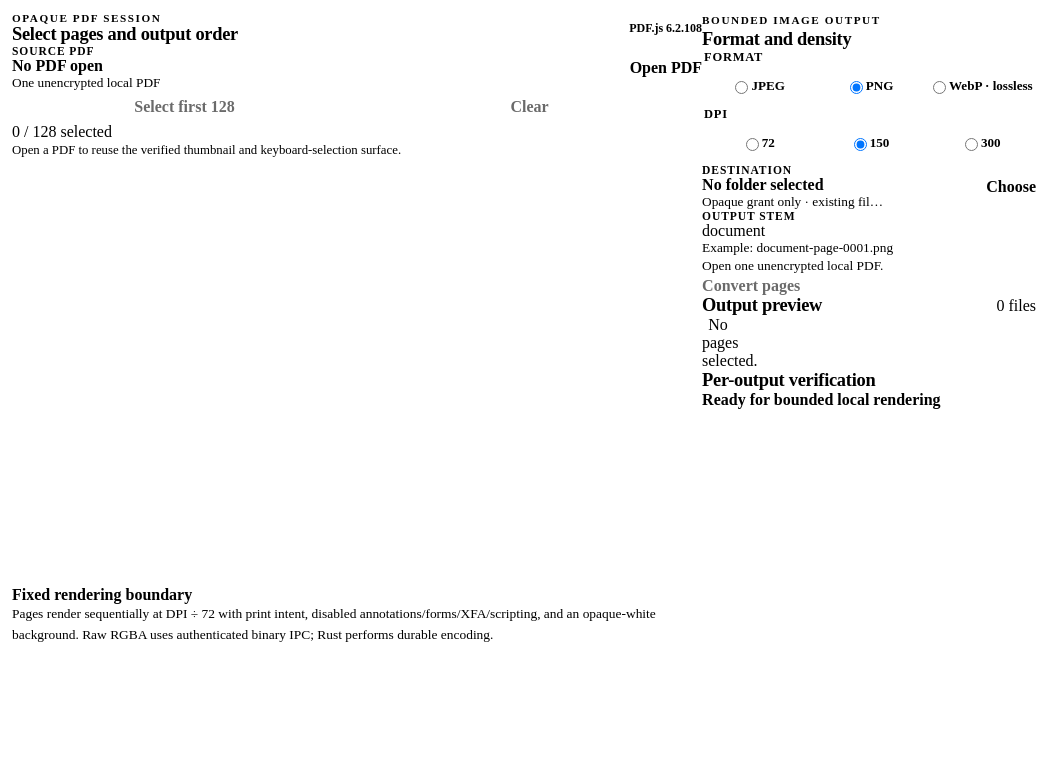
it: PDF-to-images operation lifecycle › preserves ordinary failure handling without issuing cancellation
Click the button "Open PDF": (666, 68) [630,59,702,77]
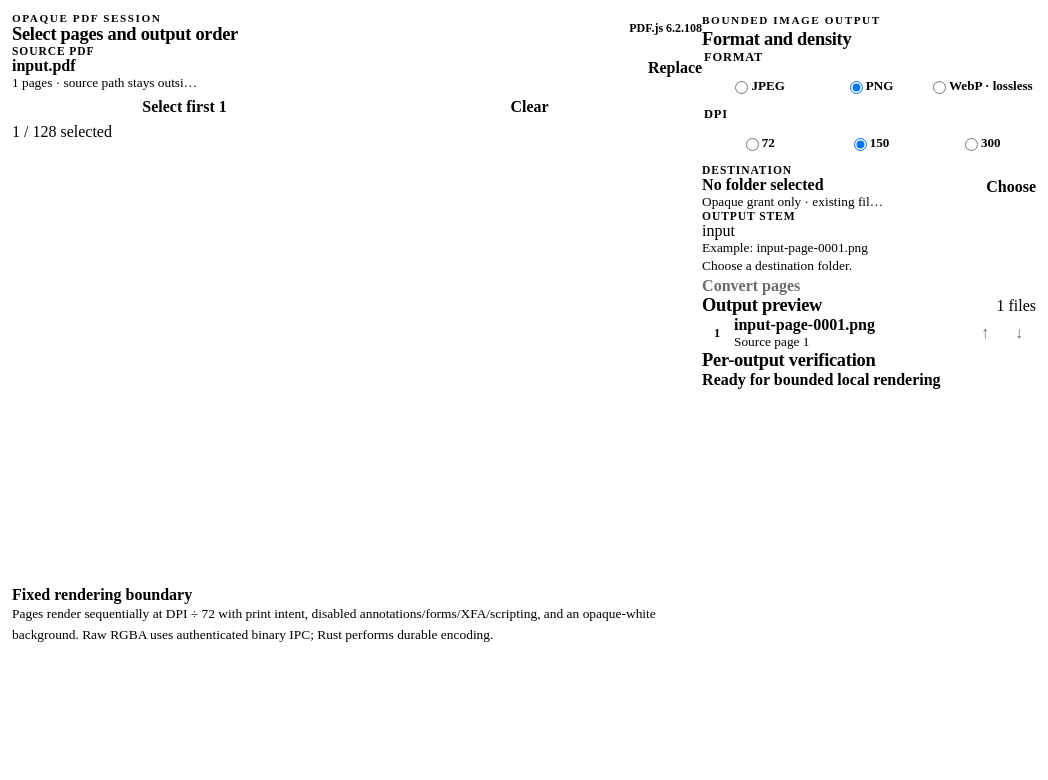
expect the text "input.pdf" is shown: met, box [12,57,76,74]
Click the button "Choose": (1011, 187) [986,178,1036,196]
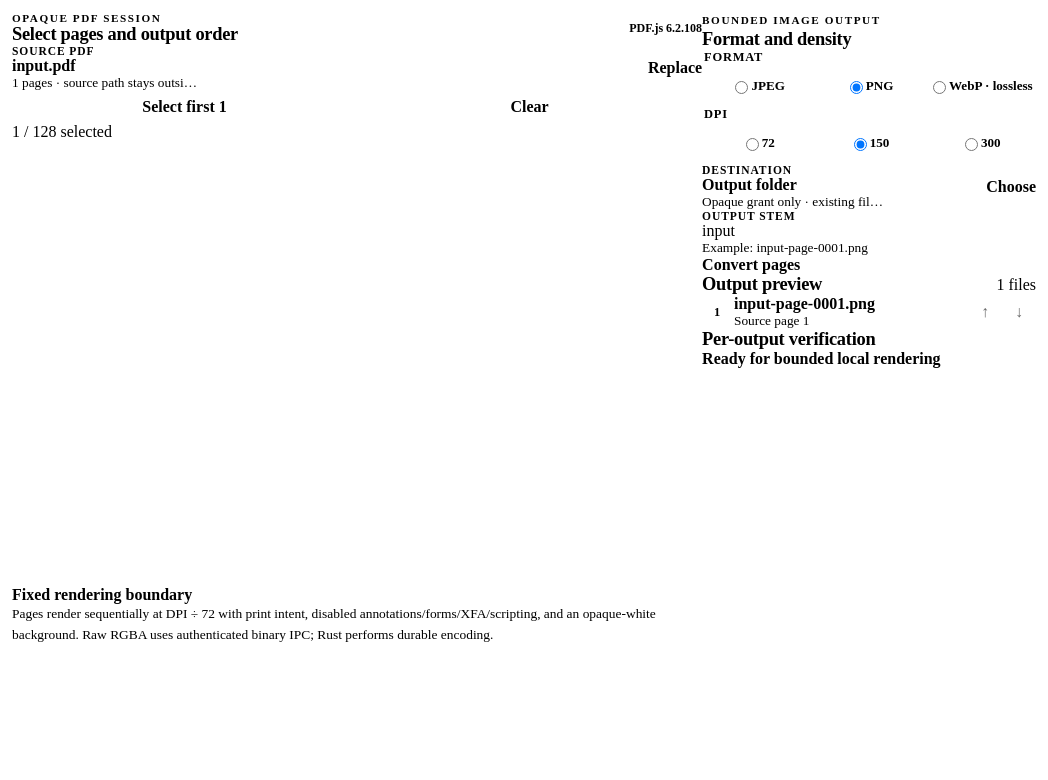
expect the text "Output folder" is shown: met, box [702,176,797,193]
Click the button "Convert pages": (751, 265) [702,256,800,274]
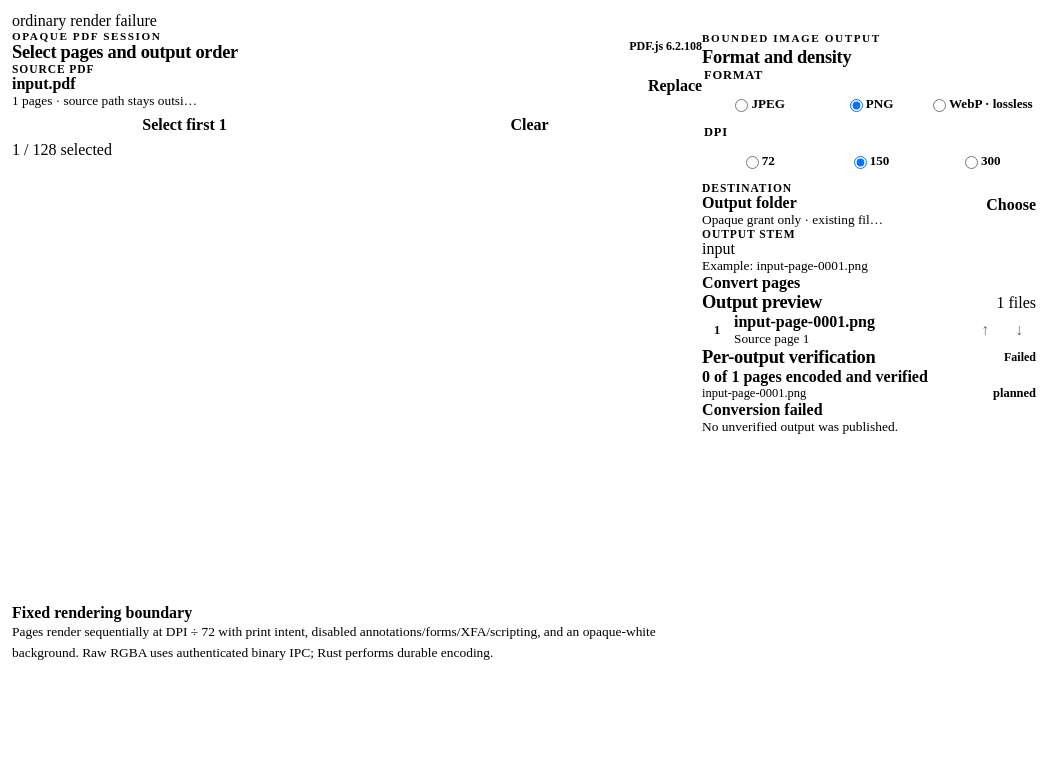
expect the button "Convert pages" is enabled: met, box [702,274,800,292]
expect the text "ordinary render failure" is shown: met, box [12,12,157,29]
